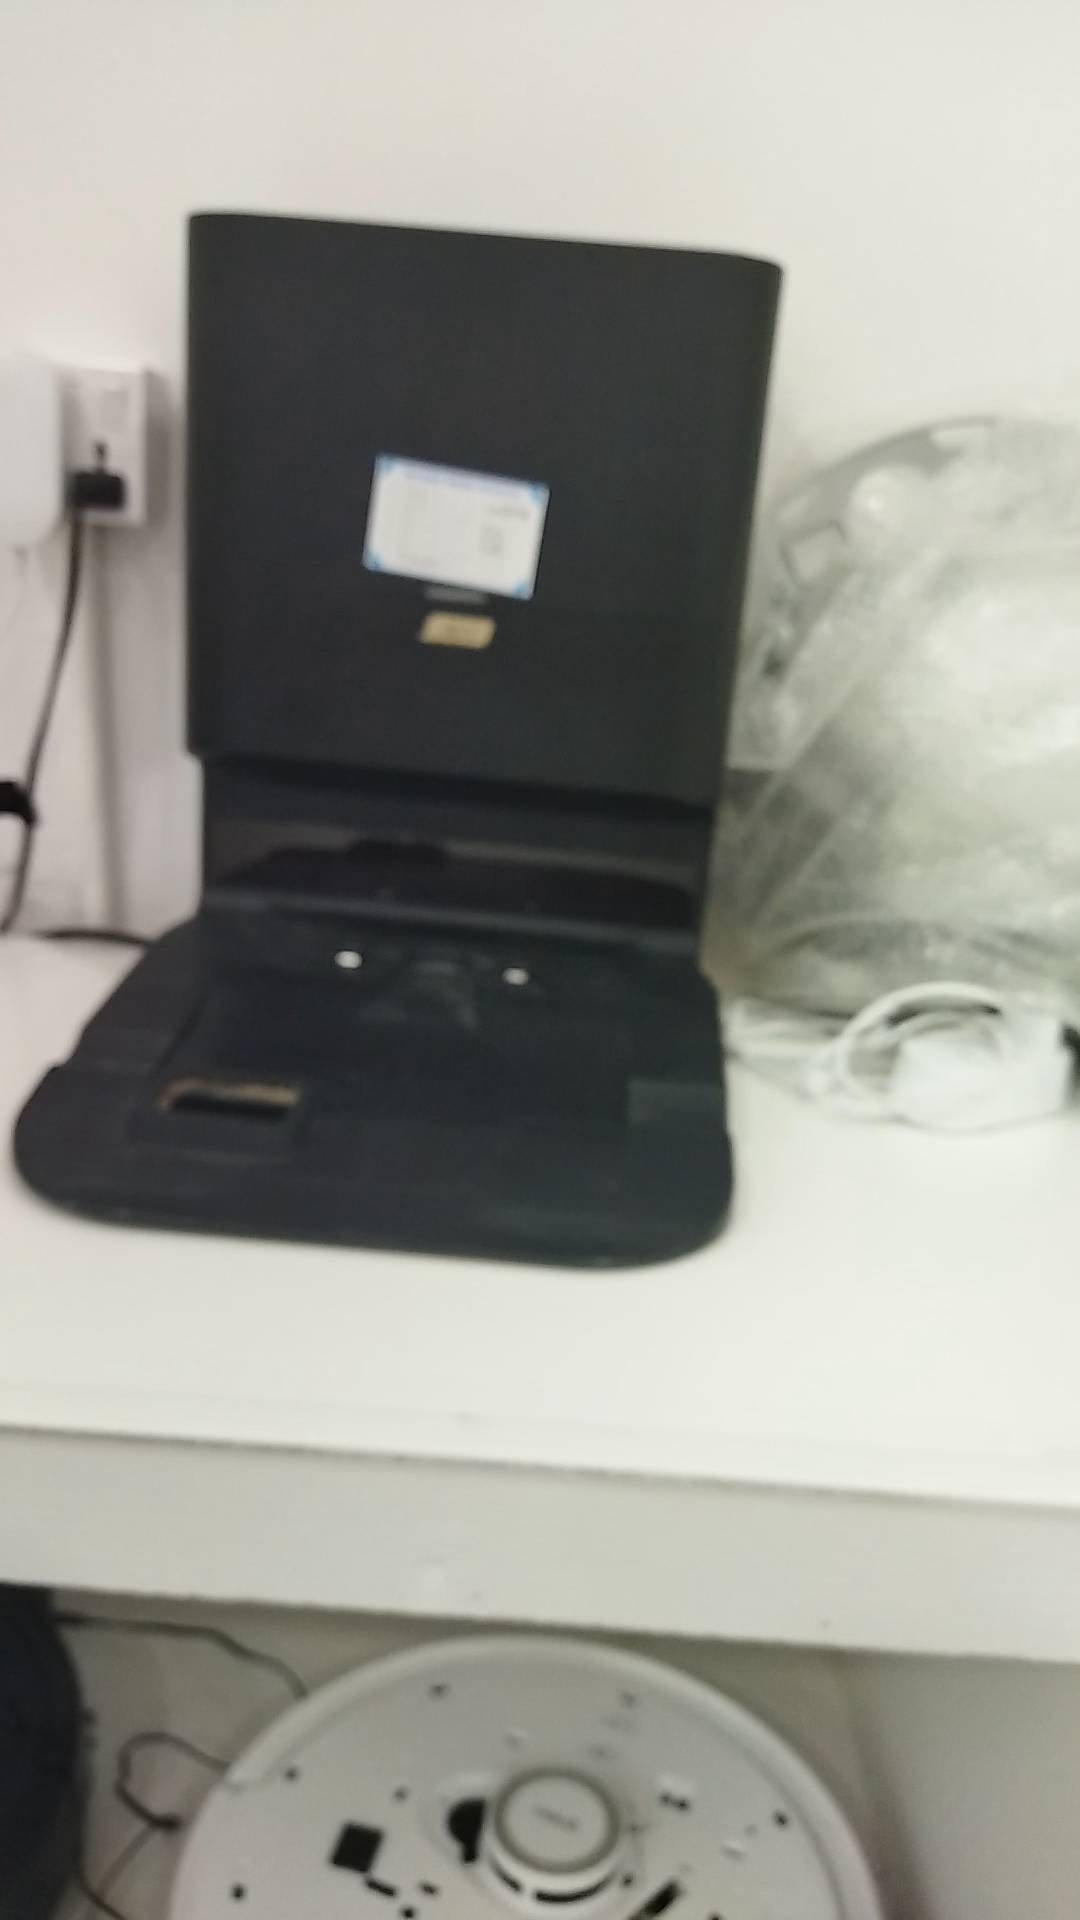dust collecting barrel: (16, 208, 778, 1274)
